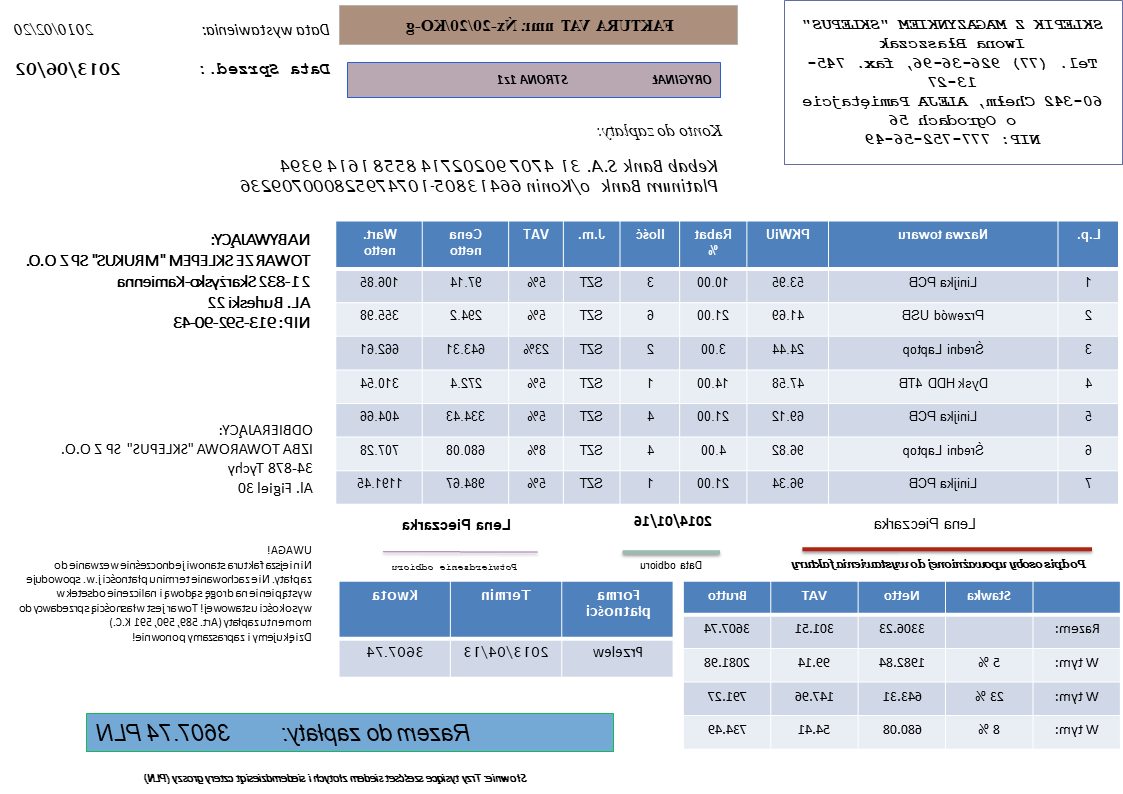Table: (334, 219, 1121, 505), (683, 580, 1122, 751), (337, 581, 674, 678)
TextBox: (799, 12, 1106, 148), (19, 542, 316, 647), (23, 230, 314, 334), (60, 420, 316, 498), (237, 155, 720, 196), (93, 720, 476, 746), (144, 768, 529, 787), (403, 14, 677, 38), (788, 555, 1089, 574), (494, 70, 715, 89), (595, 120, 725, 143), (198, 59, 331, 80), (201, 20, 332, 38), (401, 514, 515, 534), (15, 59, 123, 78), (872, 514, 979, 532), (391, 559, 519, 573), (631, 512, 715, 530), (13, 20, 96, 37), (638, 557, 704, 573)
